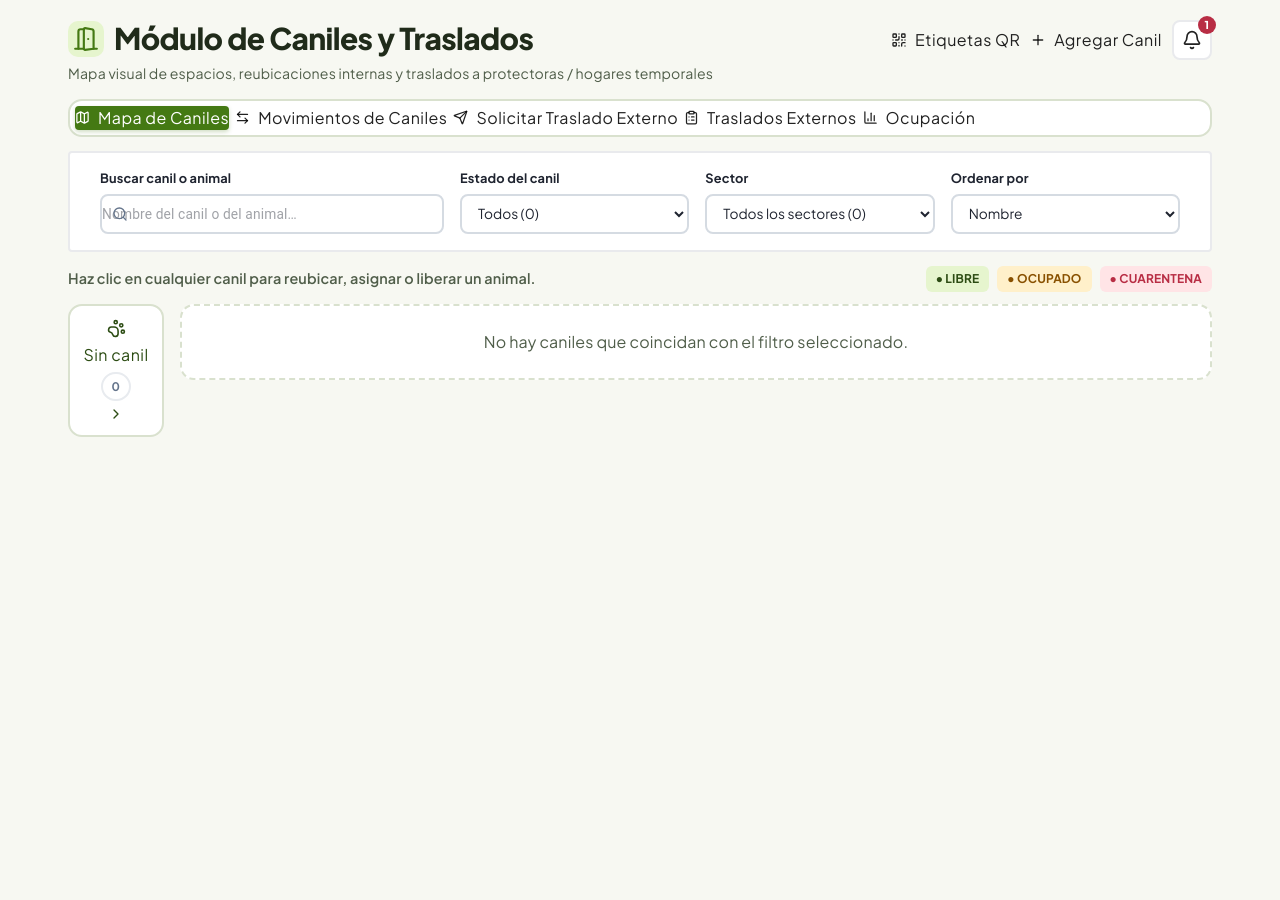
it: muestra los movimientos internos y los traslados externos en bitácoras distintas
Click the button "Movimientos de Caniles": (341, 118) [235,106,447,130]
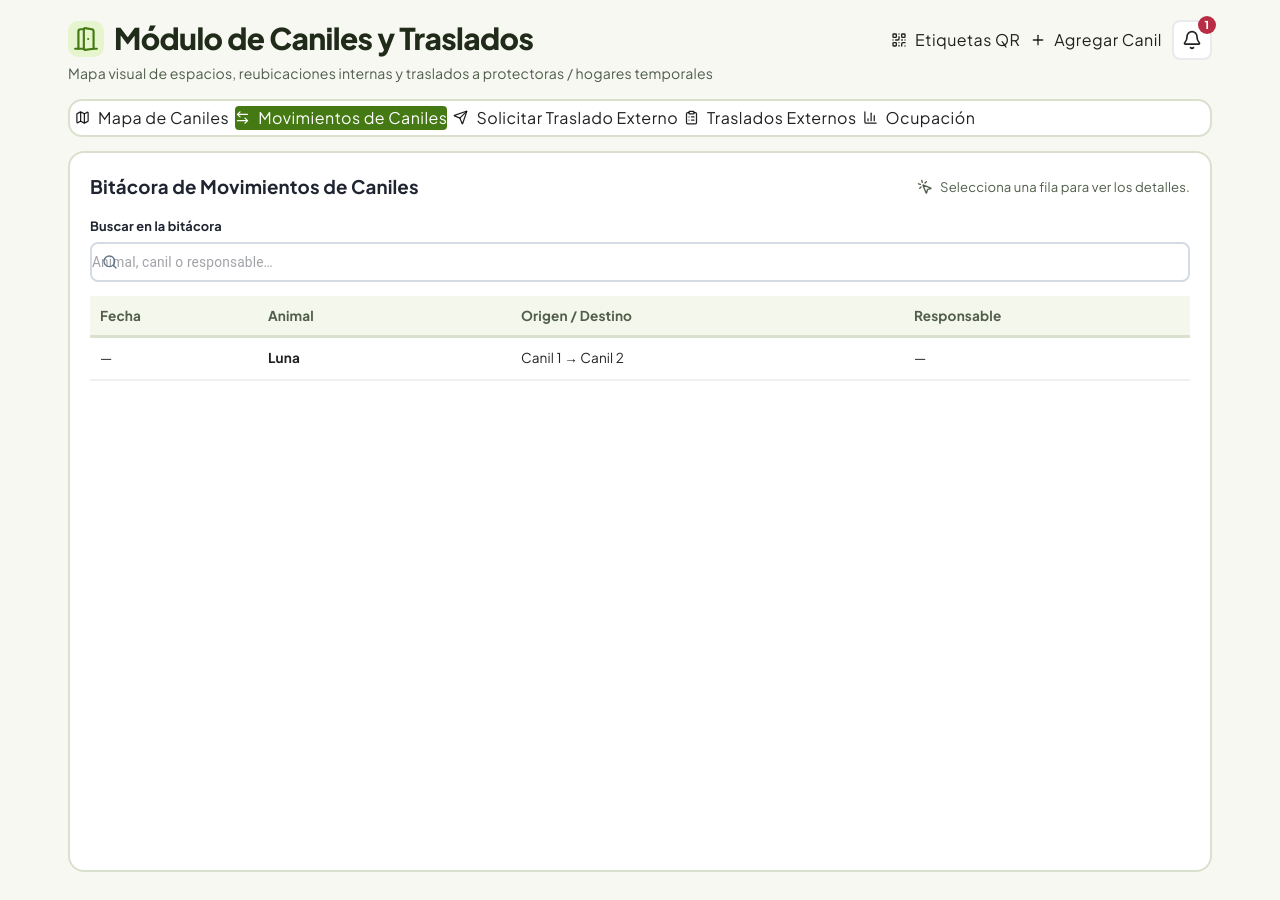
Result: the text "Luna" is shown at [258,337,511,380]
Result: the label "Estado" is gone
Result: the text "Canil 1 → Canil 2" is shown at [521,349,624,366]
Click the button "Traslados Externos": (770, 118) [684,106,857,130]
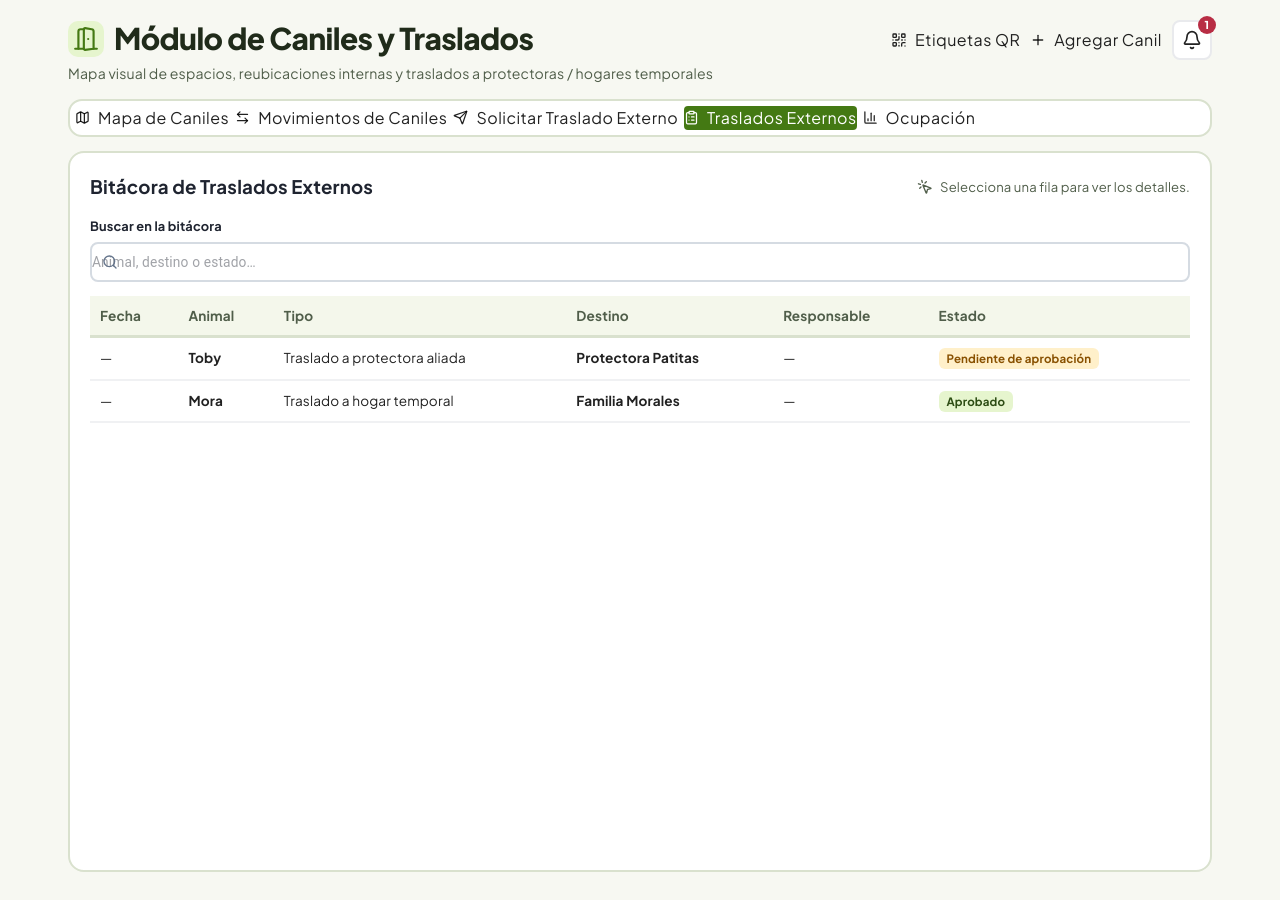
Result: the text "Toby" is shown at [178,337,274,380]
Result: the text "Mora" is shown at [178,380,274,422]
Result: the column heading "Estado" is shown at [928,296,1190,337]
